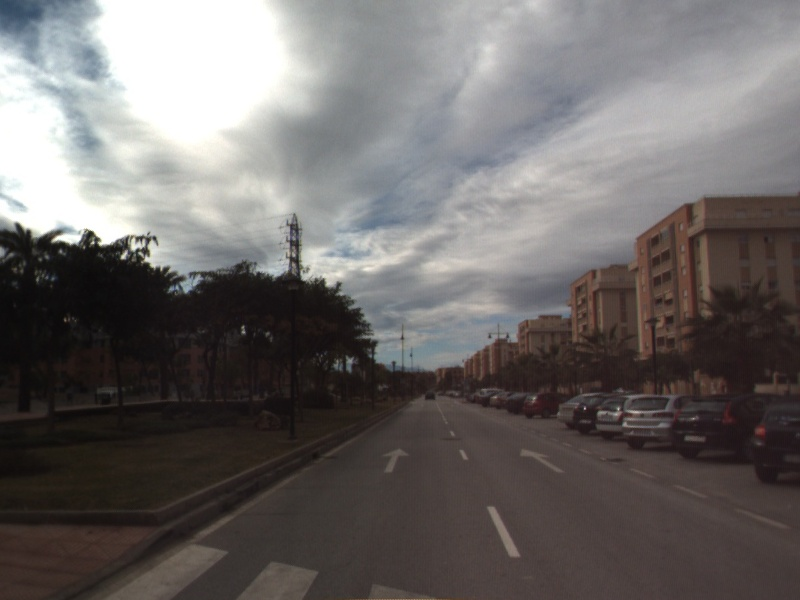STRAIGHT: (518, 447, 566, 474), (380, 446, 412, 474)
